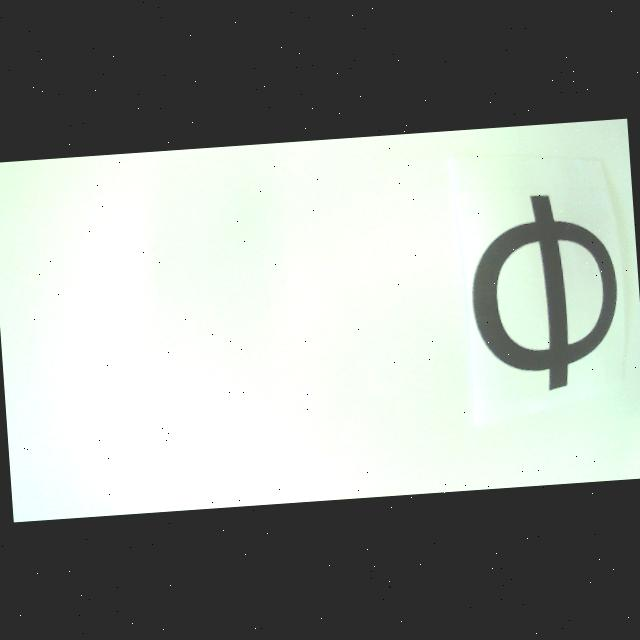PHI: (465, 188, 624, 395)
